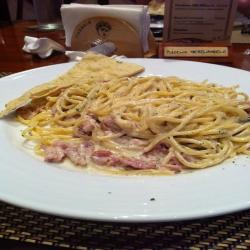carbonara: (19, 75, 250, 179)
